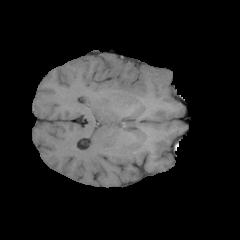glioma: (82, 66, 170, 126)
